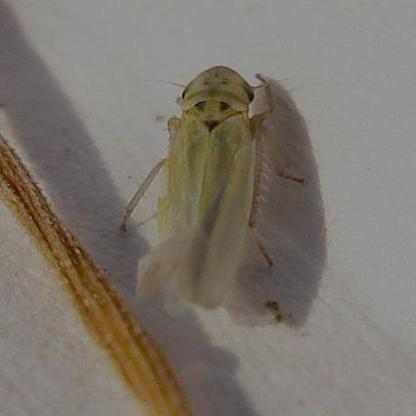green-leafhopper: (137, 43, 276, 308)
